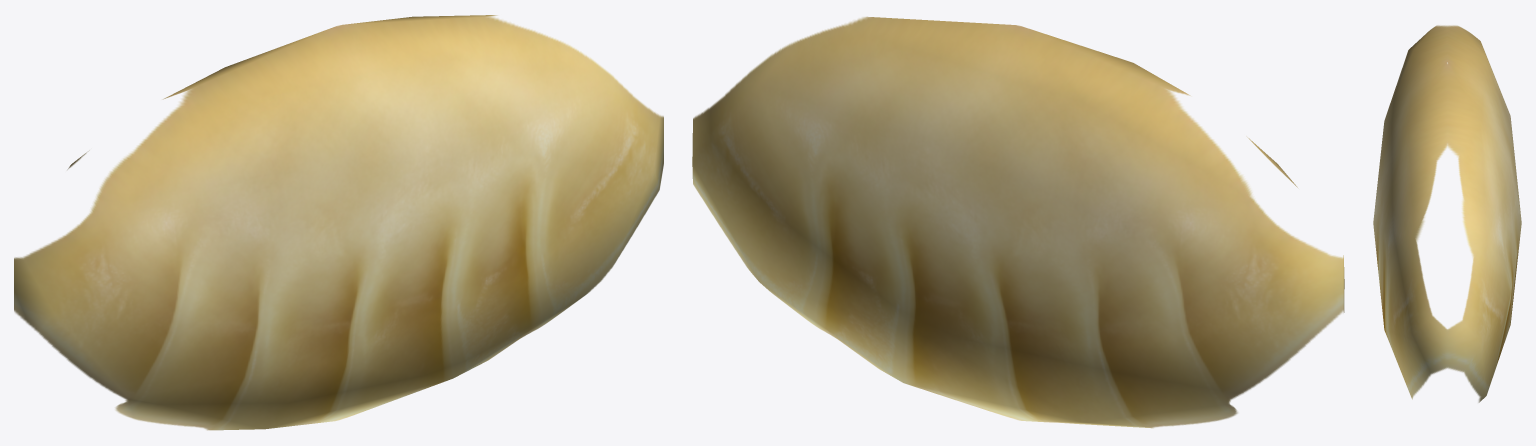
Rendered from dumpling.glb.
The picture shows the model from 3 angles, left to right: view 1: azimuth 30°, elevation 25°; view 2: azimuth 150°, elevation 25°; view 3: azimuth 270°, elevation 25°; orthographic projection. The views are drawn at different scales.
Visible parts, largest first — view 1: dumpling; view 2: dumpling; view 3: dumpling.
Boxes of the visible parts, x1,y1,x2,y2 form: dumpling: (14, 15, 663, 430); dumpling: (692, 16, 1344, 428); dumpling: (1373, 25, 1521, 402).
Bounding box in the file's own units: 1.05 × 0.6084 × 0.2555.
1 material, 1 textured.
